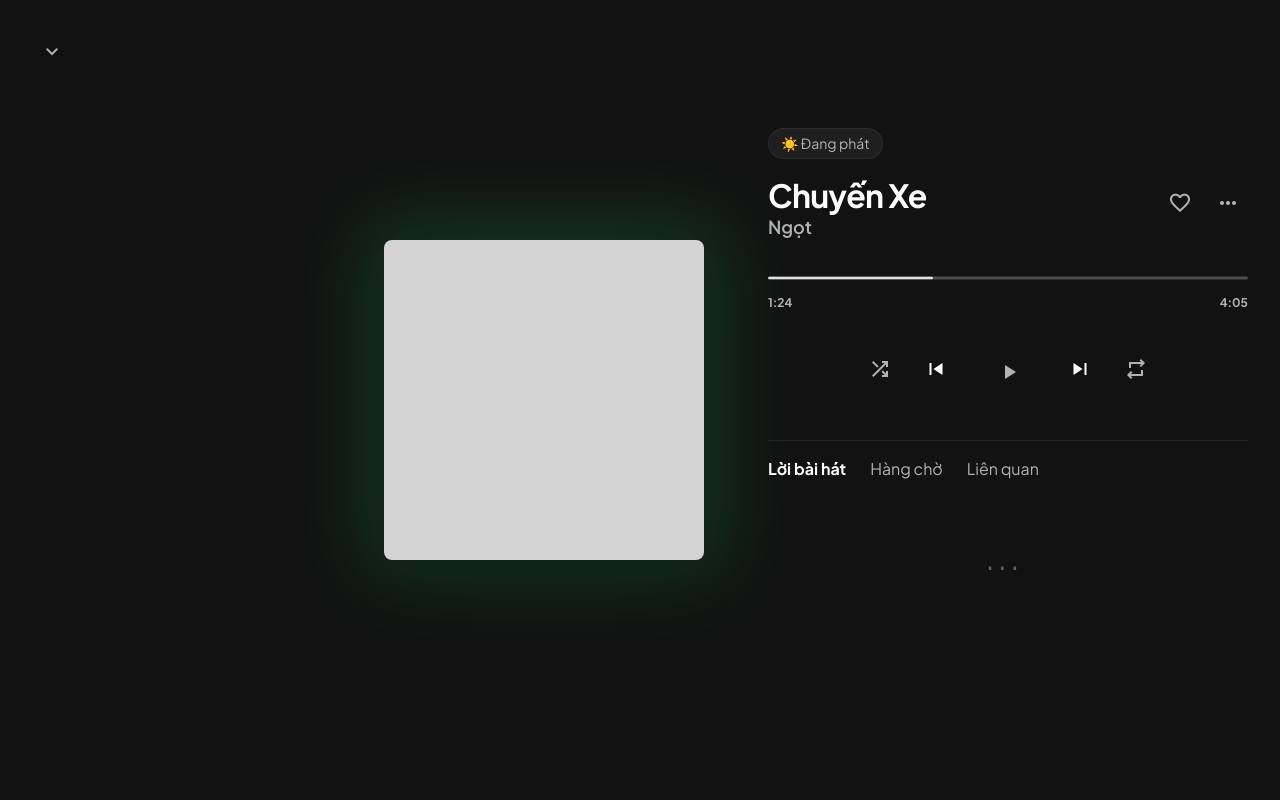
NowPlayingOverlay — tabs › switches to related tab on click
The width and height of the screenshot is (1280, 800).
Click the tab with test id "tab-related" at (1003, 471), box [967,457,1039,485]
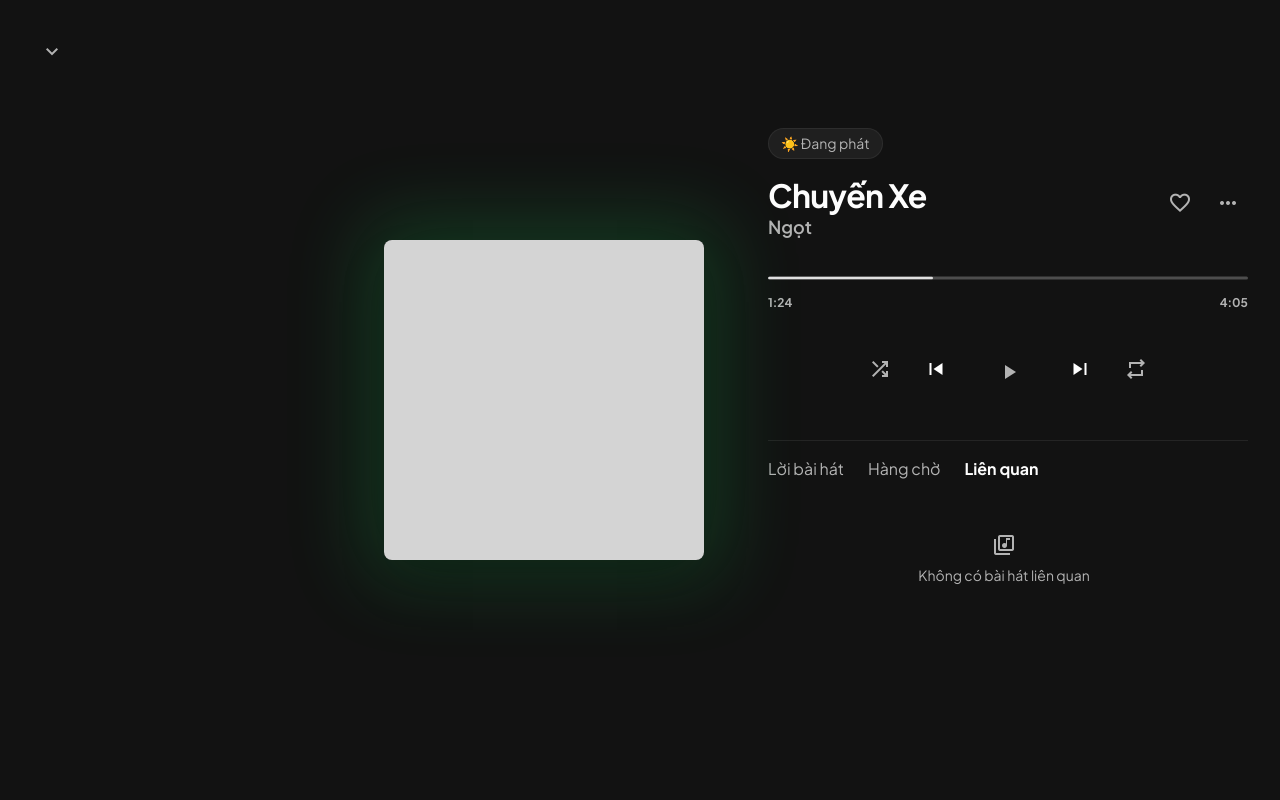
Expected: the element with test id "tab-content-related" is shown, [918,531,1090,584]
